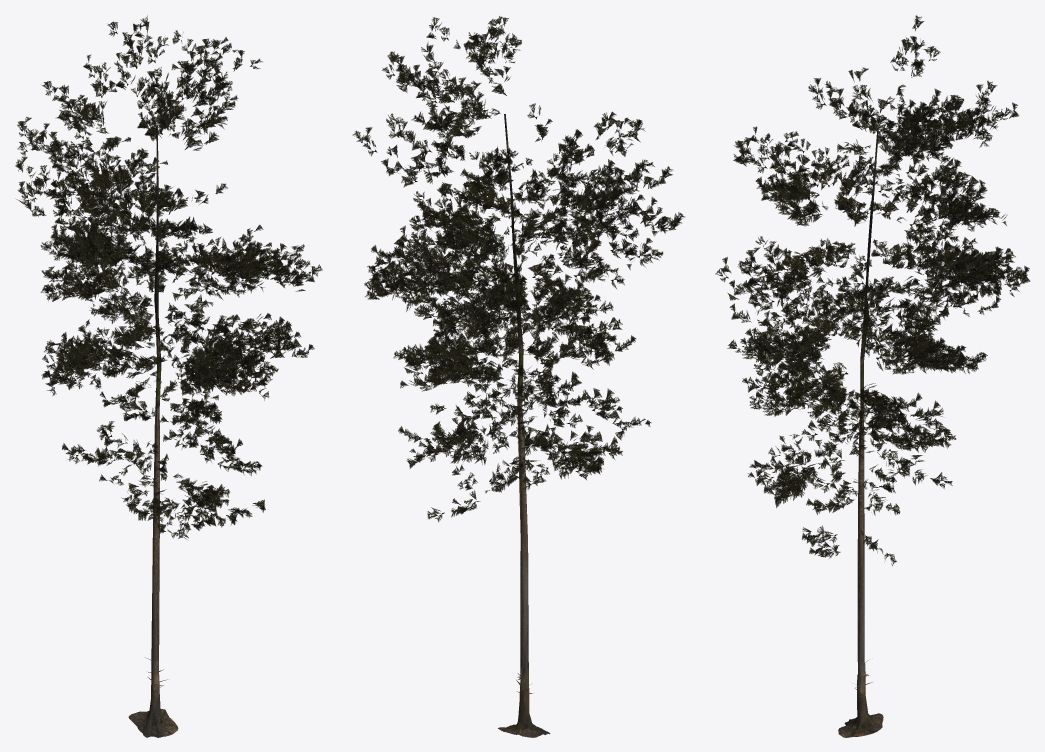
The model's file is pine_tree_01_a_far.glb.
3 views of the same model, side by side, from view 1: azimuth 30°, elevation 25°; view 2: azimuth 150°, elevation 25°; view 3: azimuth 270°, elevation 25° (orthographic). The views are drawn at different scales.
Visible parts, largest first — view 1: pine_tree_01_a_far; view 2: pine_tree_01_a_far; view 3: pine_tree_01_a_far.
Boxes of the visible parts, x1,y1,x2,y2 form: pine_tree_01_a_far: [15, 15, 322, 737]; pine_tree_01_a_far: [352, 16, 685, 737]; pine_tree_01_a_far: [715, 15, 1030, 737].
Size of the model in its own units: 7.58 by 20.39 by 8.26.
2 materials, 2 textured.
